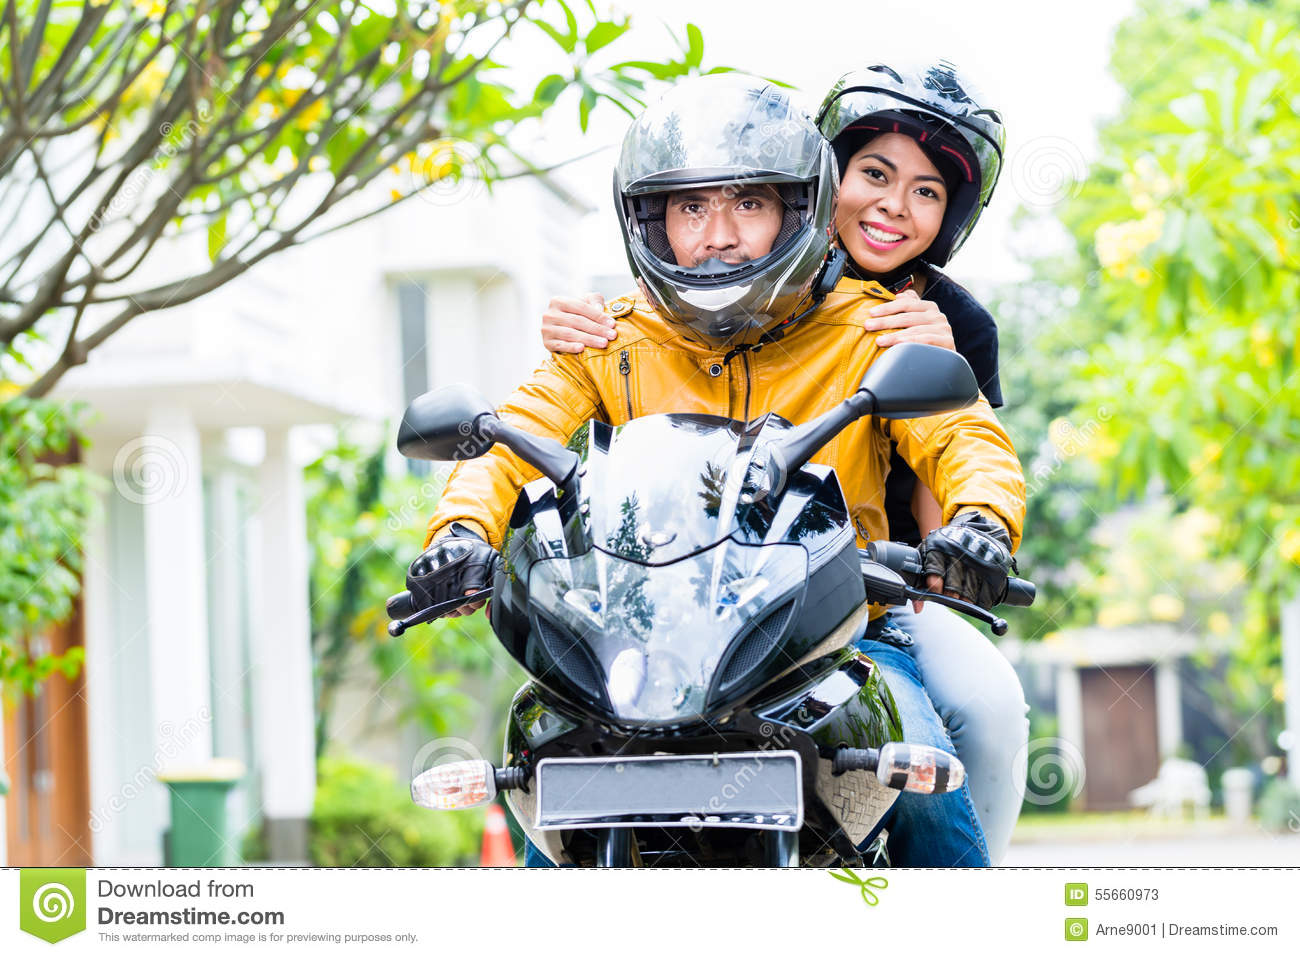helmet: (601, 69, 848, 321), (817, 35, 1012, 211)
